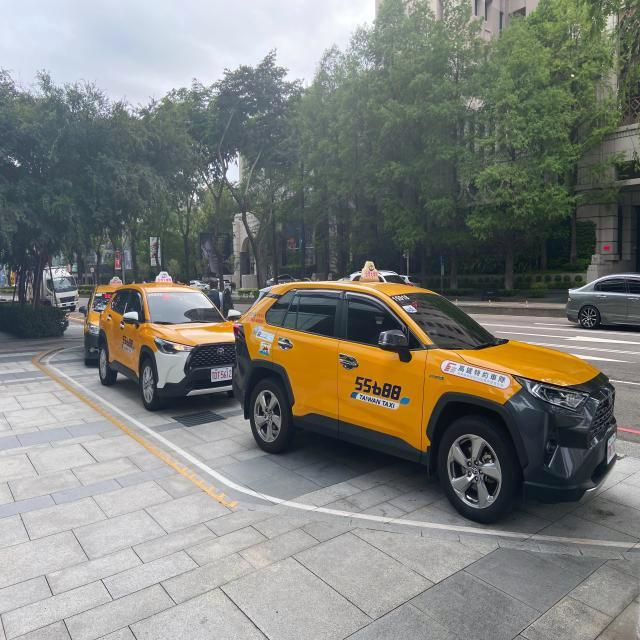taxi: (228, 264, 618, 518), (117, 260, 221, 437), (84, 265, 111, 381)
